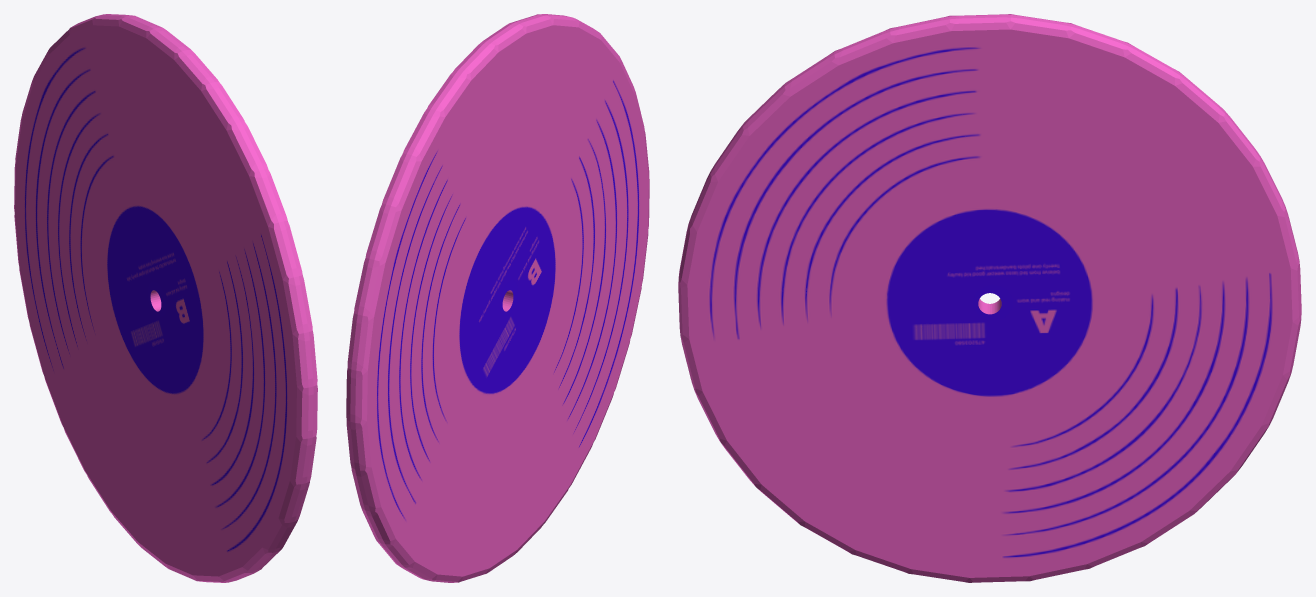
File: MerchVinyl.glb
3 views of the same model, side by side, from view 1: azimuth 30°, elevation 25°; view 2: azimuth 150°, elevation 25°; view 3: azimuth 270°, elevation 25° (orthographic). The views are drawn at different scales.
Parts seen in each view (by area): view 1: Cylinder.001; view 2: Cylinder.001; view 3: Cylinder.001.
Boxes of the visible parts, <box> form: Cylinder.001: <box>14,14,317,582</box>; Cylinder.001: <box>346,14,649,582</box>; Cylinder.001: <box>678,14,1301,582</box>.
Size of the model in its own units: 0.0503 by 1.27 by 1.27.
1 material, 1 textured.
